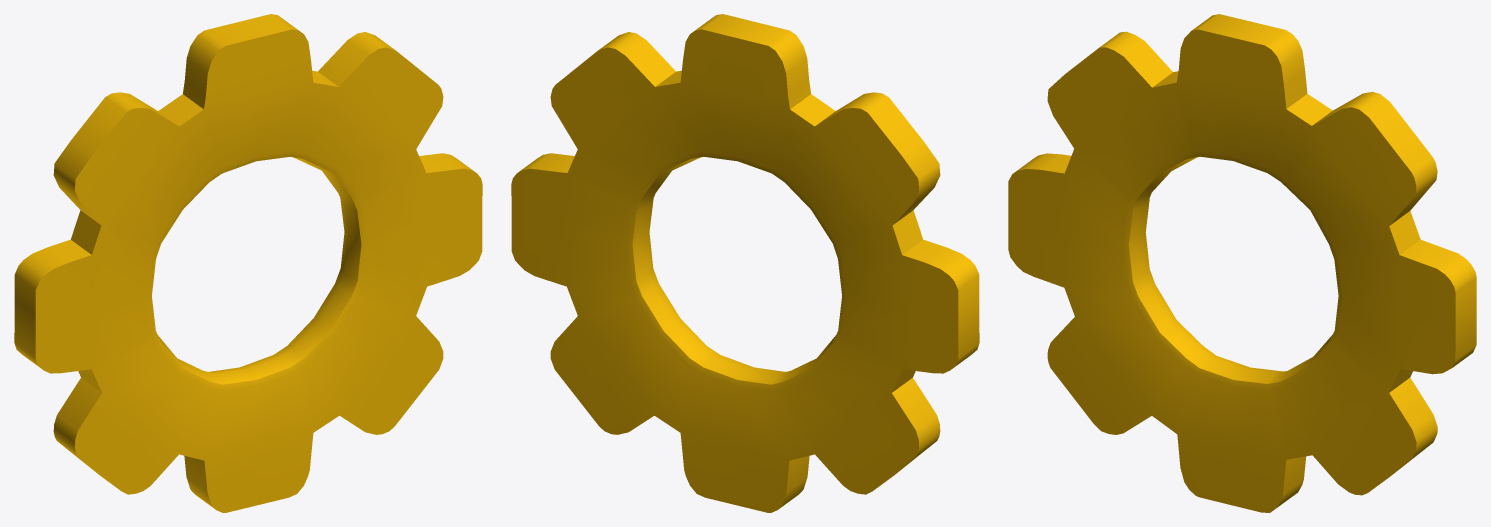
The model's file is Setting_1.fbx.
The picture shows the model from 3 angles, left to right: view 1: azimuth 30°, elevation 25°; view 2: azimuth 150°, elevation 25°; view 3: azimuth 330°, elevation 25°; orthographic projection.
Visible parts, largest first — view 1: Setting_1; view 2: Setting_1; view 3: Setting_1.
Part boxes in pixels (bbox=[...]): Setting_1: bbox=[14, 14, 482, 512]; Setting_1: bbox=[511, 14, 979, 512]; Setting_1: bbox=[1008, 14, 1476, 512].
Size of the model in its own units: 0.1607 by 0.1606 by 0.0131.
